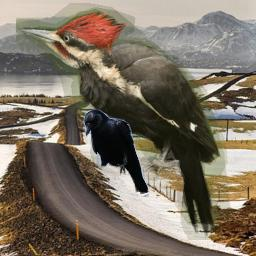Crow: (83, 109, 149, 198)
Woodpecker: (16, 3, 236, 240)
